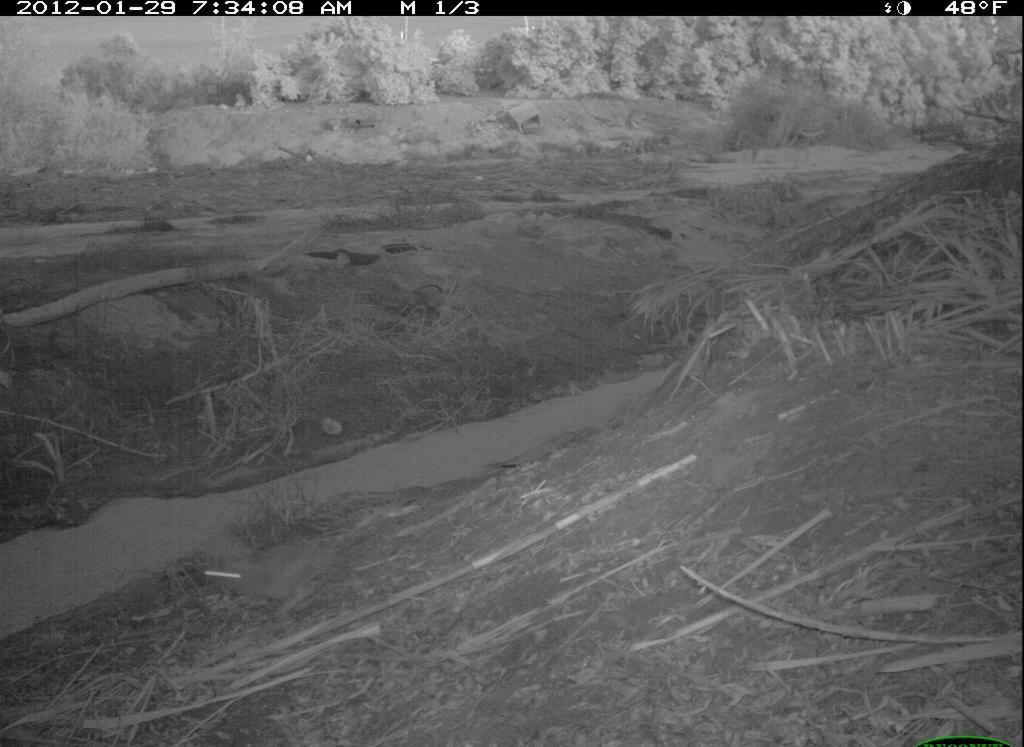rabbit: (193, 520, 355, 620)
